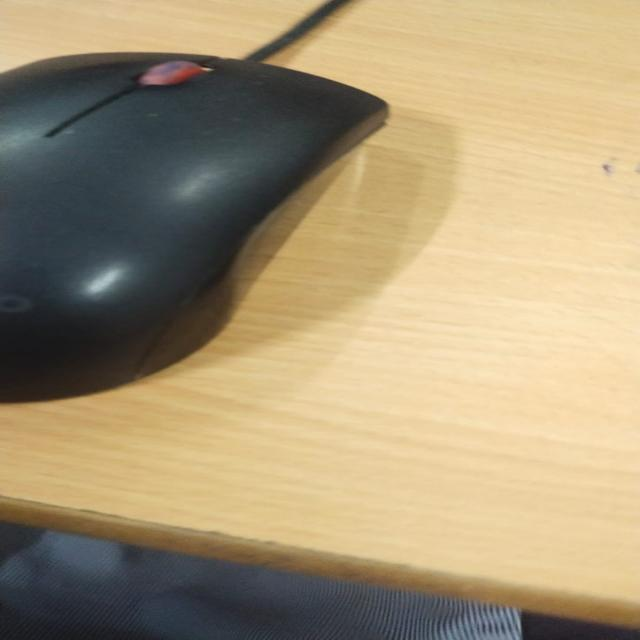mouse: (1, 0, 420, 393)
